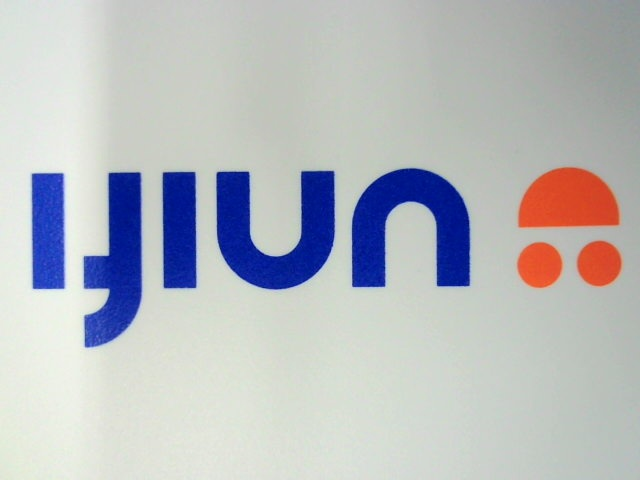BN_unifi: (7, 152, 626, 358)
